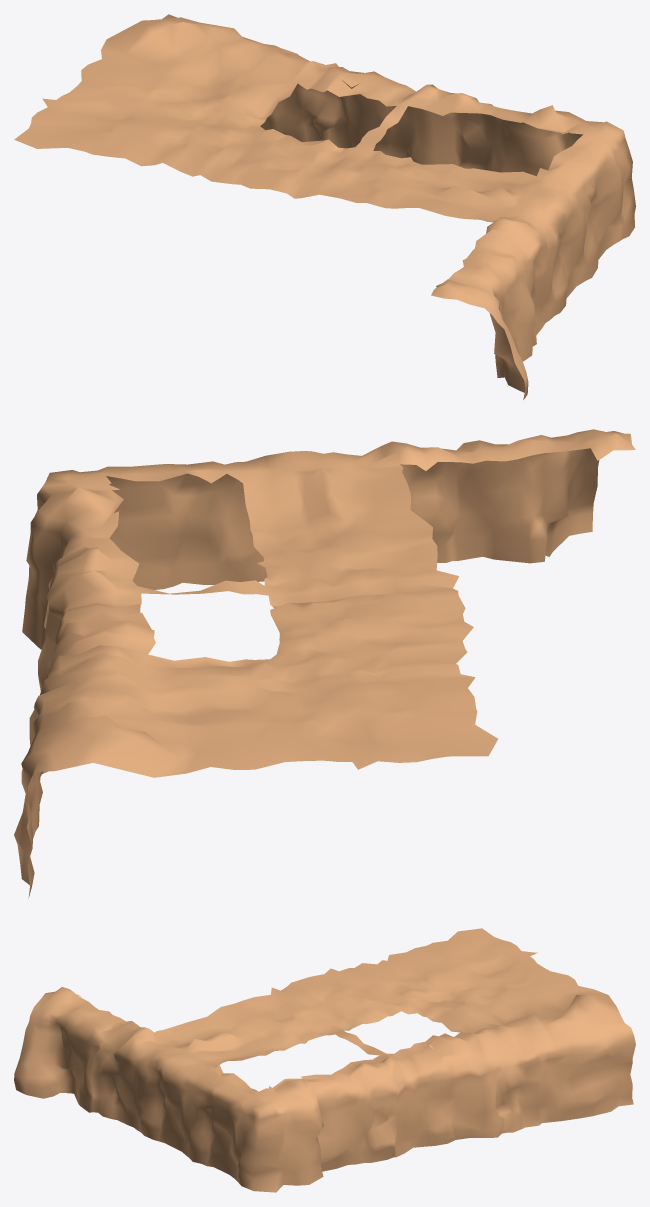
Rendered from relief_3.low.fbx.
The picture shows the model from 3 angles, top to bottom: view 1: azimuth 30°, elevation 25°; view 2: azimuth 150°, elevation 25°; view 3: azimuth 270°, elevation 25°; orthographic projection. The views are drawn at different scales.
Visible parts, largest first — view 1: relief.3.low; view 2: relief.3.low; view 3: relief.3.low.
Part boxes in pixels (x1=…): relief.3.low: x1=14, y1=14, x2=635, y2=399; relief.3.low: x1=14, y1=429, x2=635, y2=897; relief.3.low: x1=14, y1=928, x2=635, y2=1192.
Size of the model in its own units: 1979 by 482 by 2808.
